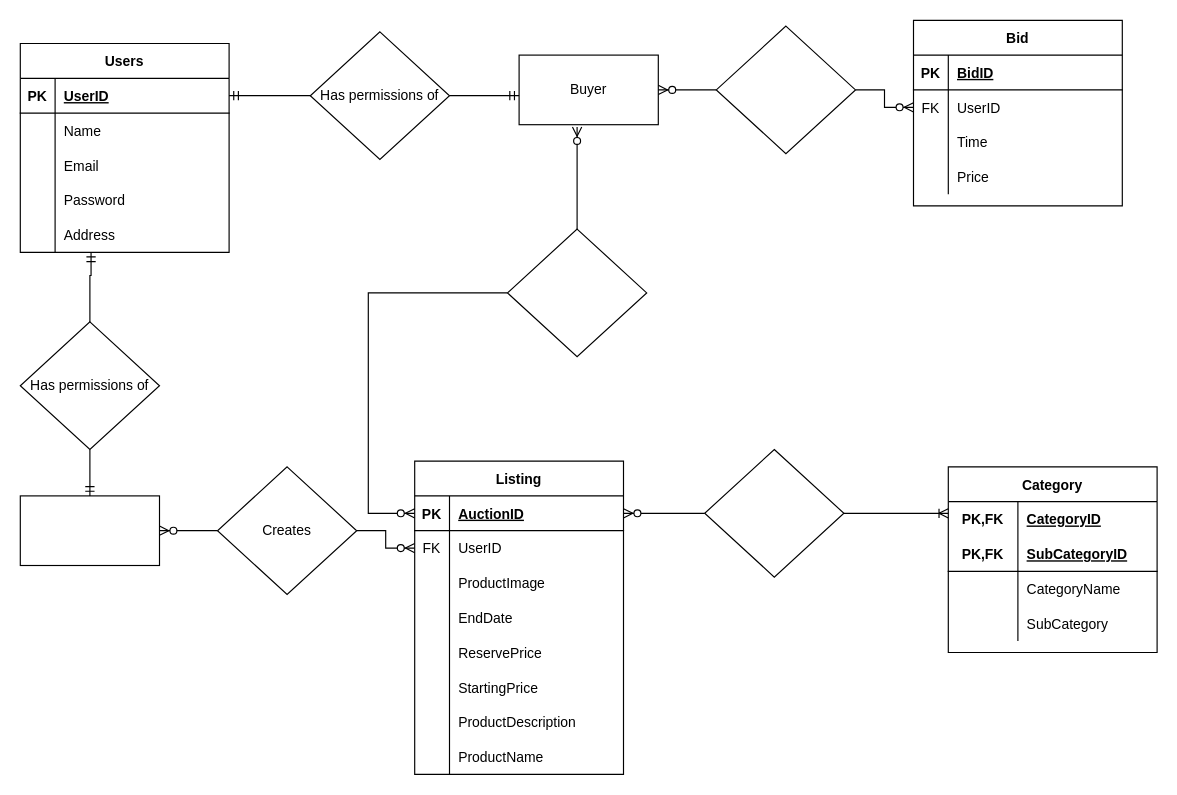
The diagram is 1177 pixels wide and 795 high, and some of its shapes have lost their labels. The centre of each missing label's shape, as x and y in pixels:
Adds to watchlist: the point at 576,292
Belongs to: the point at 774,512
Seller: the point at 89,530
Submits: the point at 785,89
